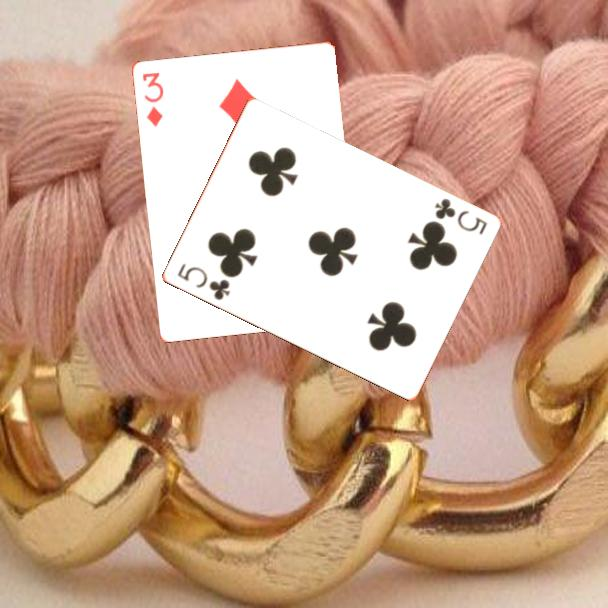c05: (173, 260, 232, 303), (431, 195, 490, 238)
d03: (138, 68, 166, 130)
